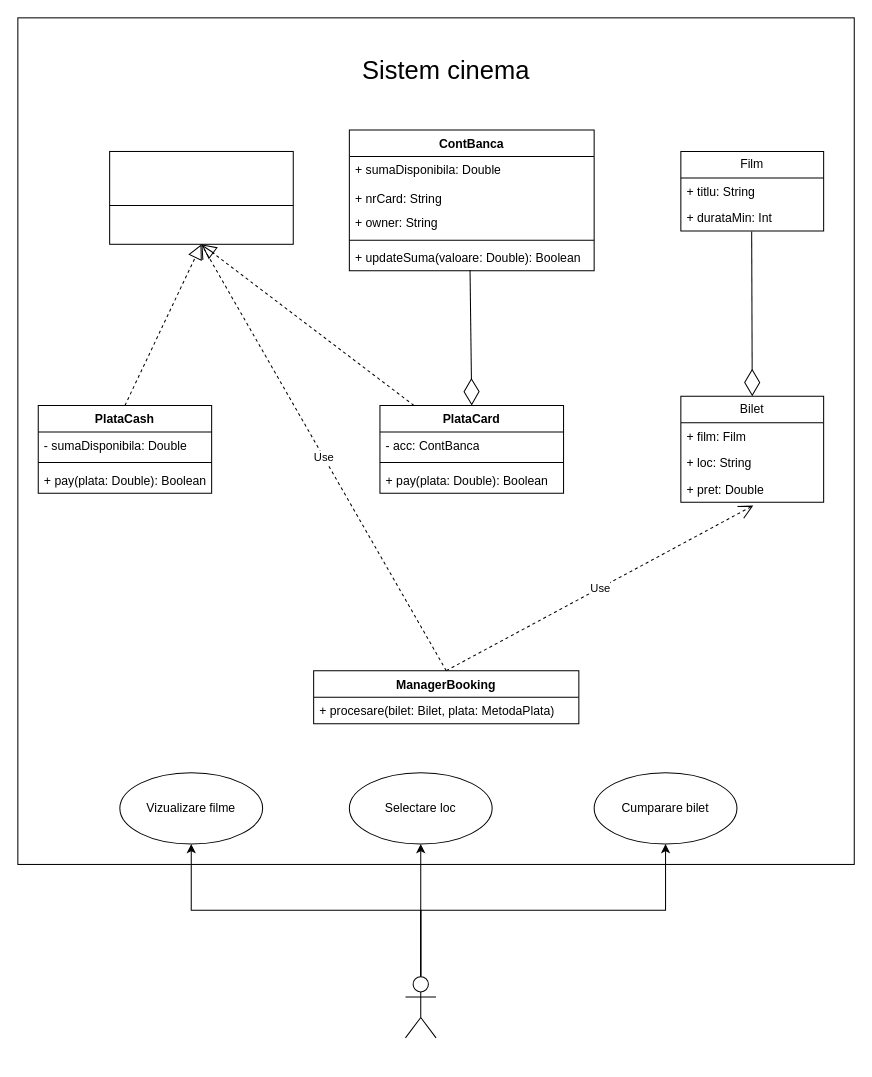
The diagram is 872 pixels wide and 1077 high, and some of its shapes have lost their labels. The shapes that lost their labels are listed below. From the top down, each one's centre as x and y in pixels, then its label:
pixel 201 197: «interface» MetodaPlata + pay(plata: Double): Boolean
pixel 420 1007: Client
